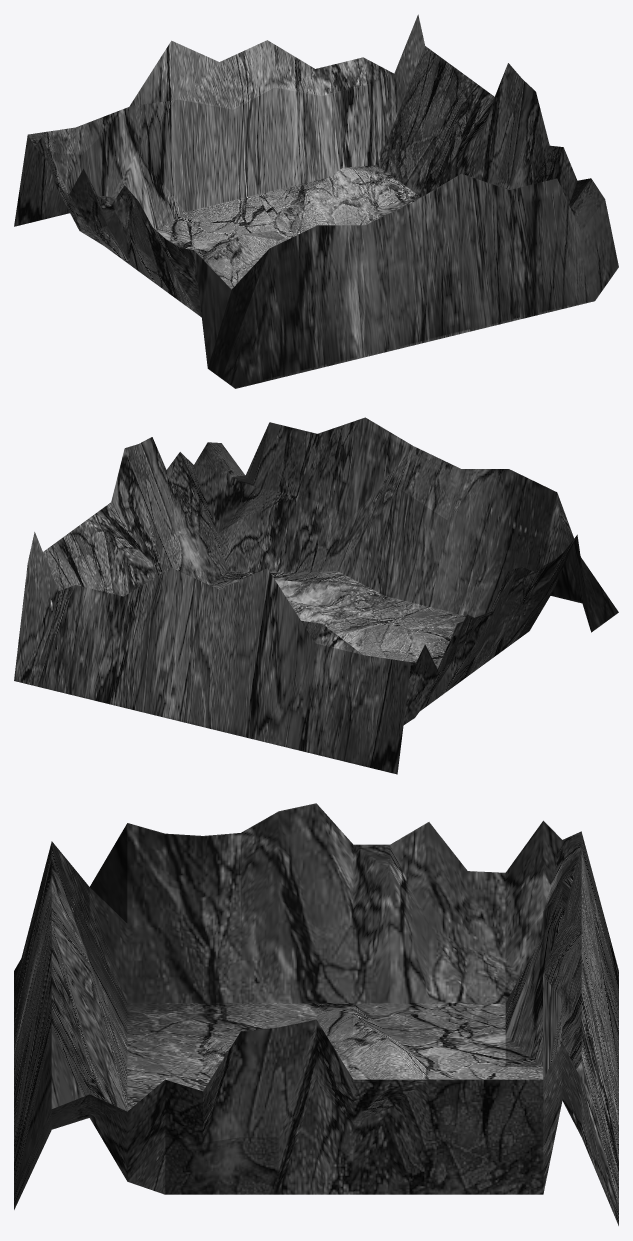
Rendered from teren.glb.
3 renders of one model, top to bottom at view 1: azimuth 30°, elevation 25°; view 2: azimuth 150°, elevation 25°; view 3: azimuth 270°, elevation 25°, orthographic. The views are drawn at different scales.
Visible parts, largest first — view 1: Plane; view 2: Plane; view 3: Plane.
Boxes of the visible parts, x1,y1,x2,y2 form: Plane: (14, 14, 618, 388); Plane: (14, 417, 618, 774); Plane: (14, 803, 618, 1225).
Bounding box in the file's own units: 30.99 × 13.44 × 30.99.
1 material, 1 textured.
